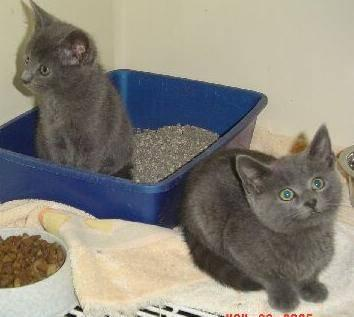cat: (180, 124, 342, 308), (22, 0, 135, 175)
